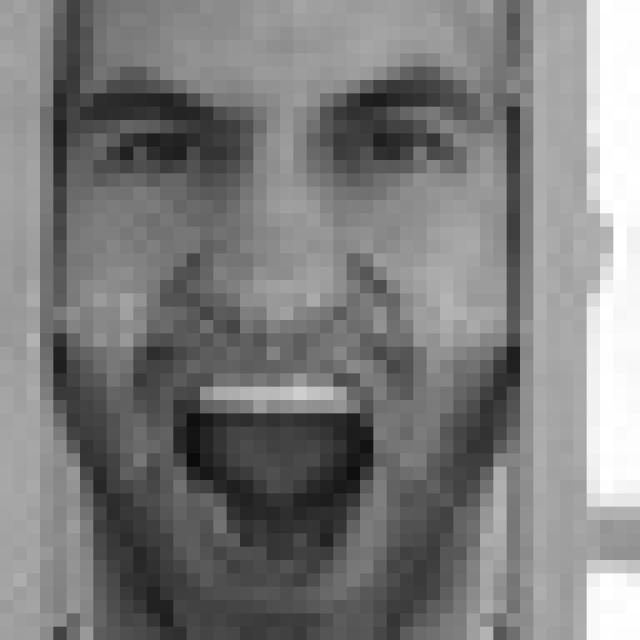angry: (70, 65, 496, 591)
